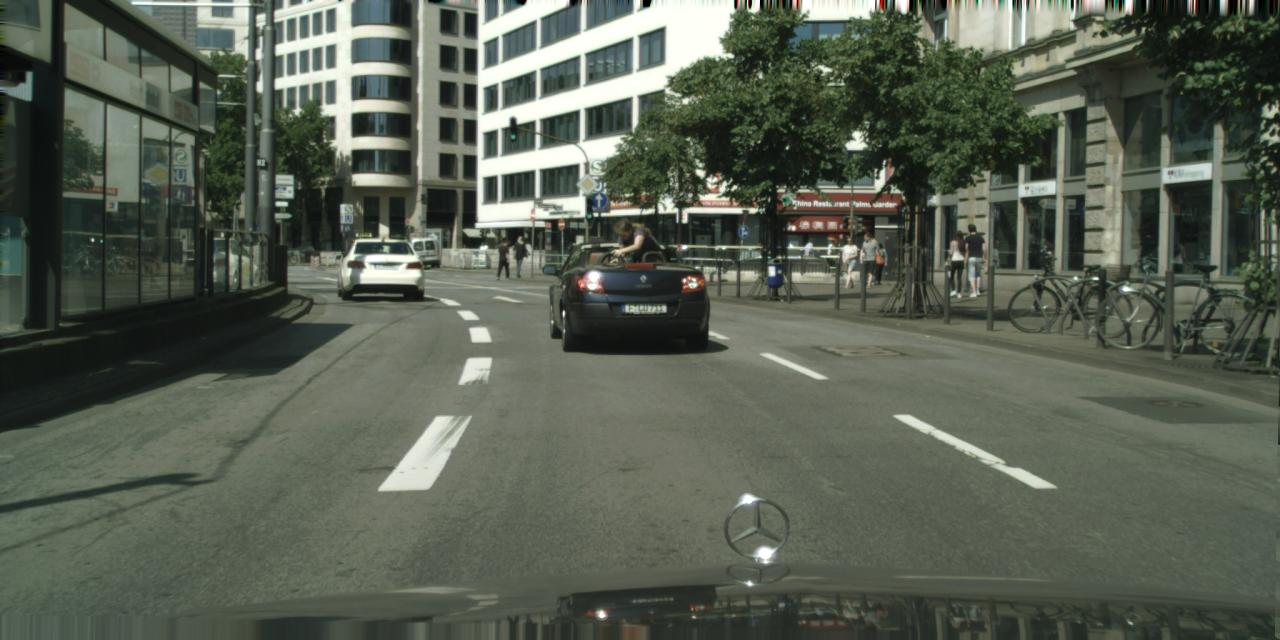ped: (627, 220, 664, 312), (959, 222, 988, 296), (944, 230, 971, 298), (961, 230, 985, 292), (854, 232, 878, 287), (838, 237, 859, 288), (869, 243, 886, 284), (511, 235, 527, 276), (498, 240, 513, 280), (825, 239, 839, 275), (800, 239, 814, 272), (478, 243, 488, 265)
